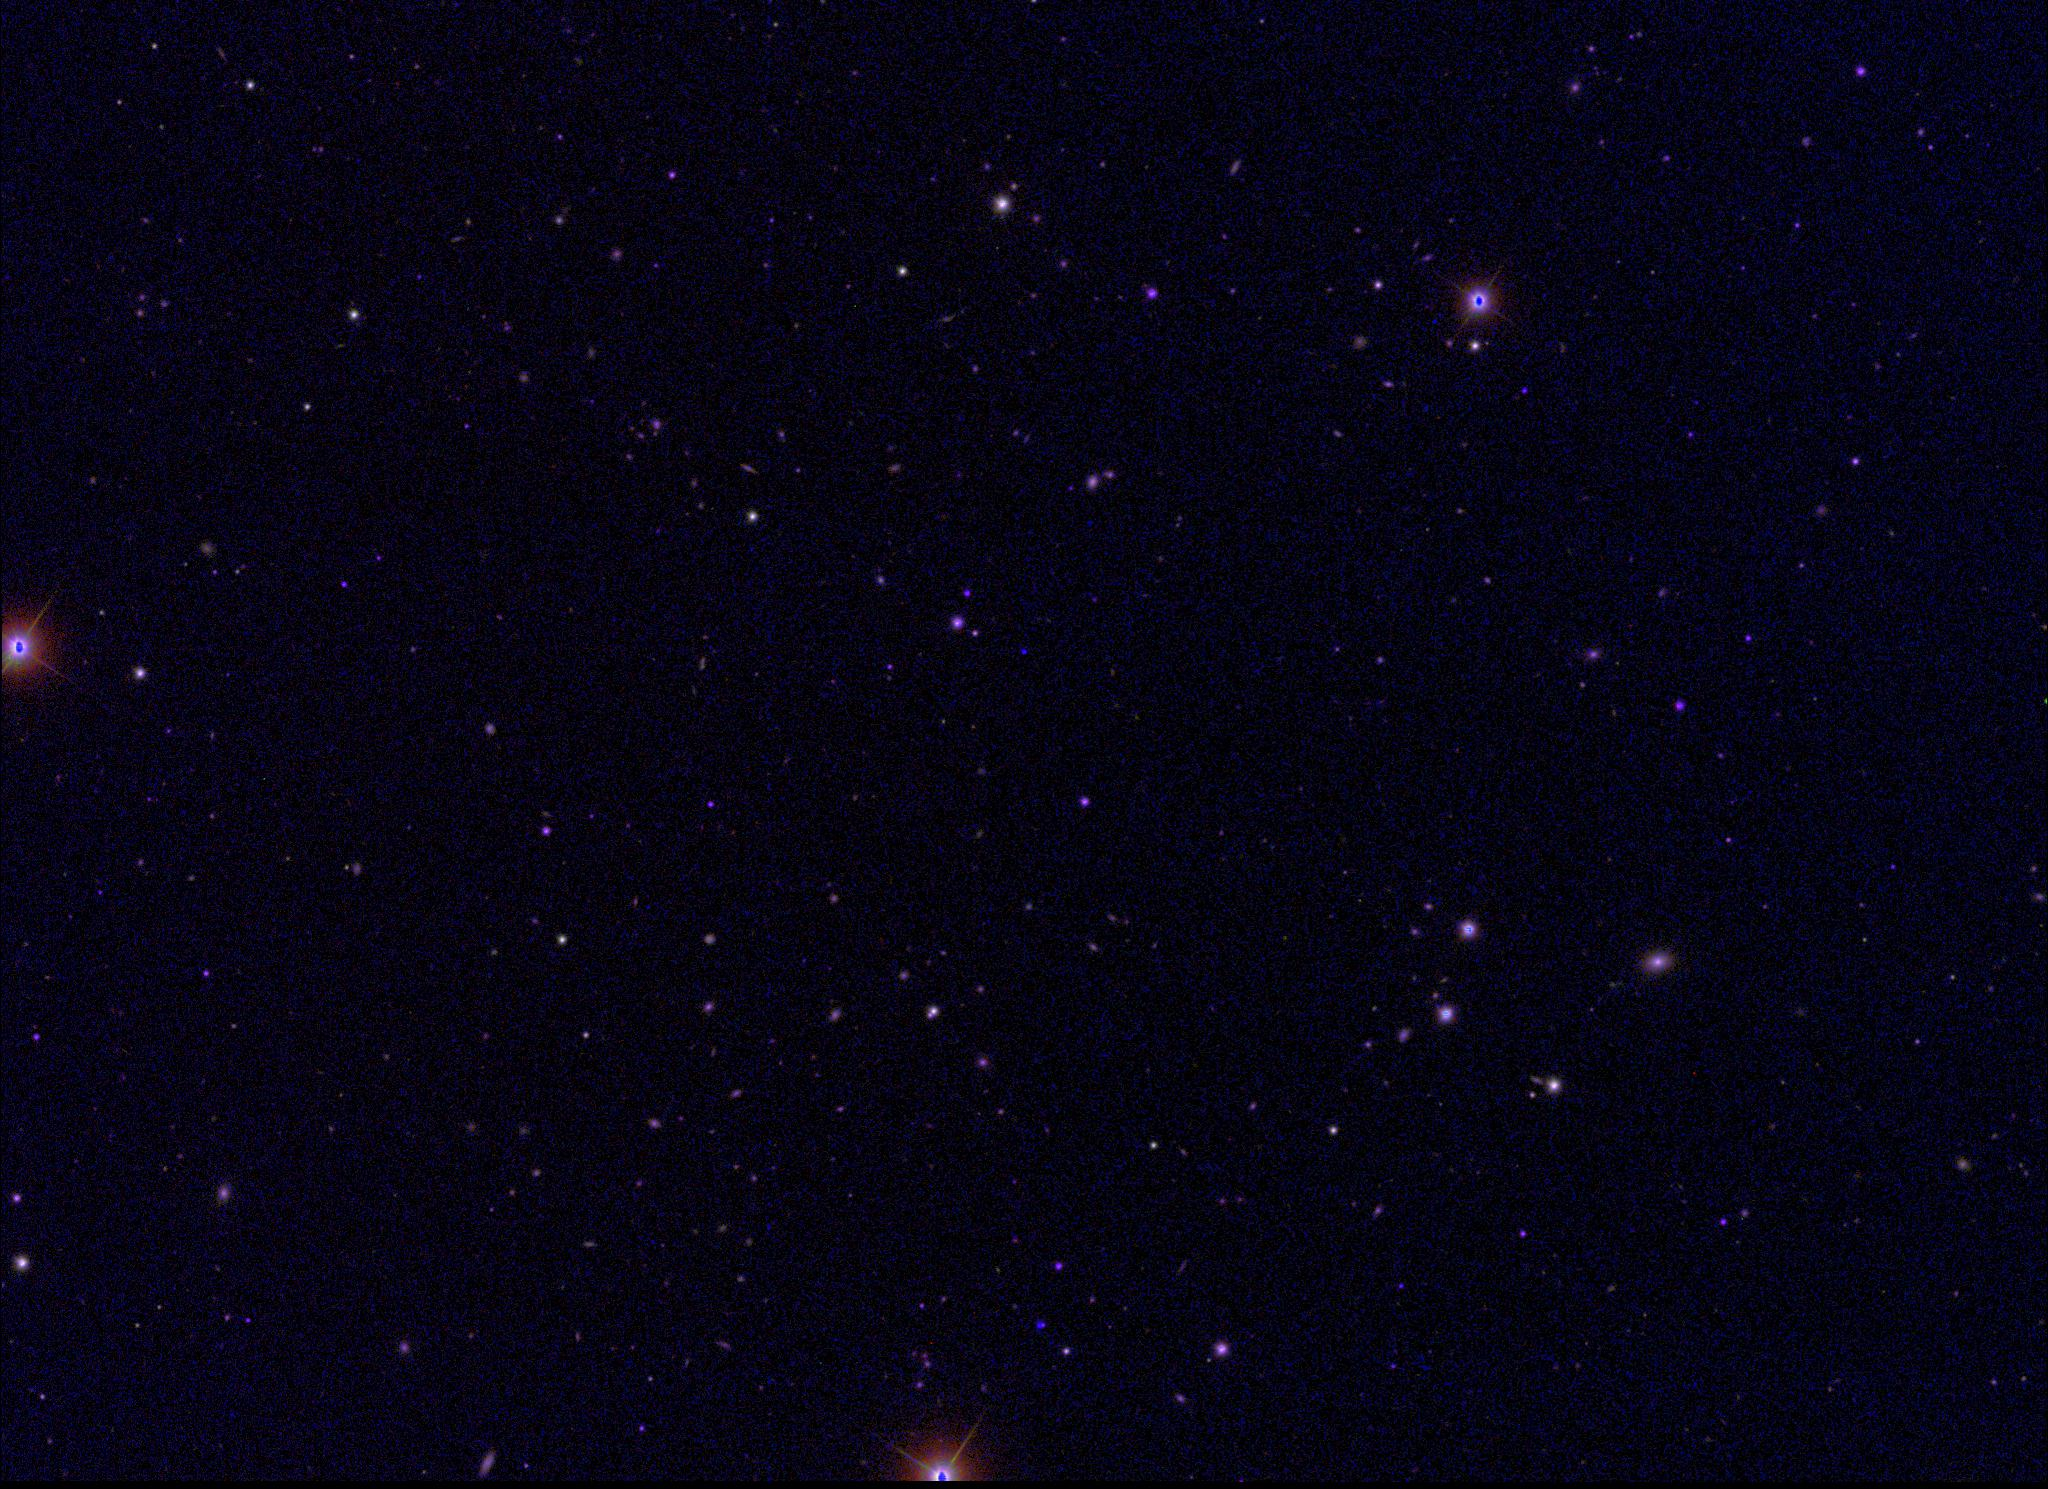L: (1018, 644, 1030, 659)
